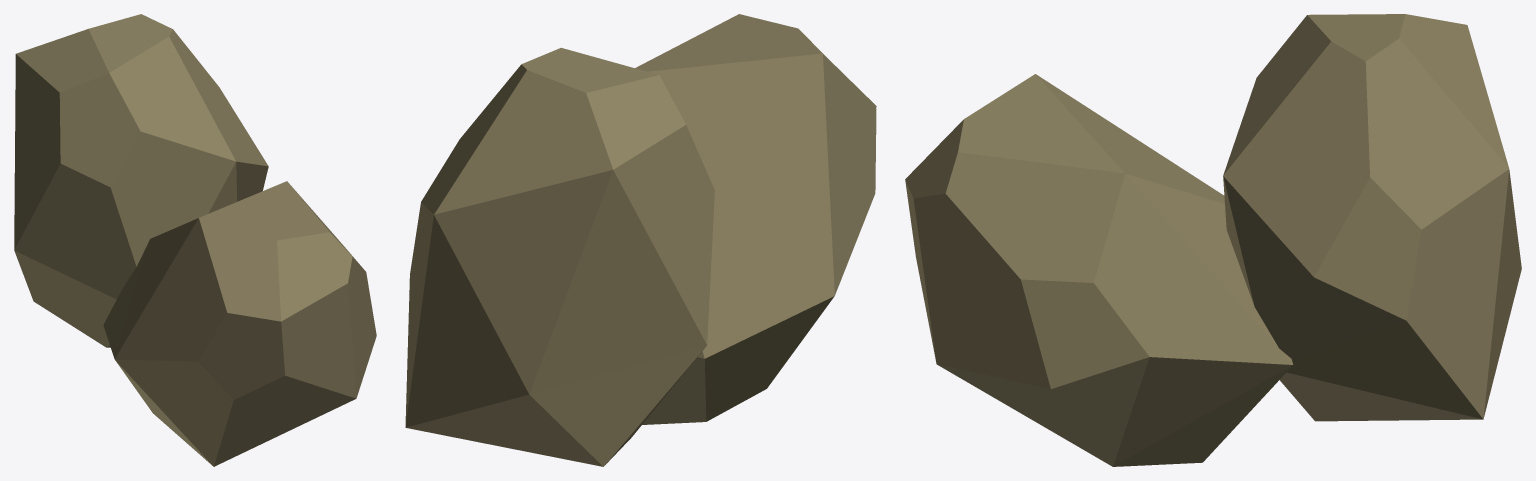
Rendered from Камень 2.fbx.
3 renders of one model, left to right at view 1: azimuth 30°, elevation 25°; view 2: azimuth 150°, elevation 25°; view 3: azimuth 270°, elevation 25°, orthographic. The views are drawn at different scales.
Visible parts, largest first — view 1: Icosphere.002, Icosphere.001; view 2: Icosphere.002, Icosphere.001; view 3: Icosphere.001, Icosphere.002.
Part boxes in pixels (left/top/right/bottom): Icosphere.002: left=14, top=14, right=268, bottom=347; Icosphere.001: left=103, top=181, right=376, bottom=466; Icosphere.002: left=405, top=47, right=714, bottom=466; Icosphere.001: left=635, top=14, right=876, bottom=424; Icosphere.001: left=905, top=74, right=1293, bottom=466; Icosphere.002: left=1223, top=14, right=1521, bottom=421.
Size of the model in its own units: 188 by 269 by 355.
